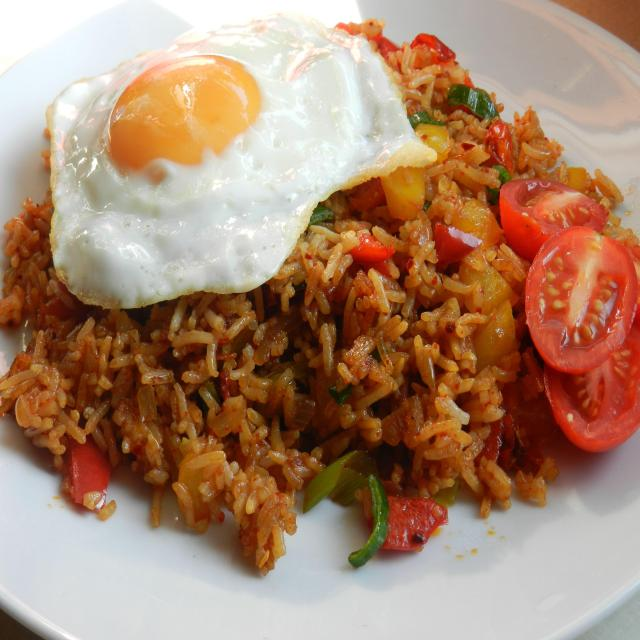Nasi Goreng: (16, 52, 550, 534)
